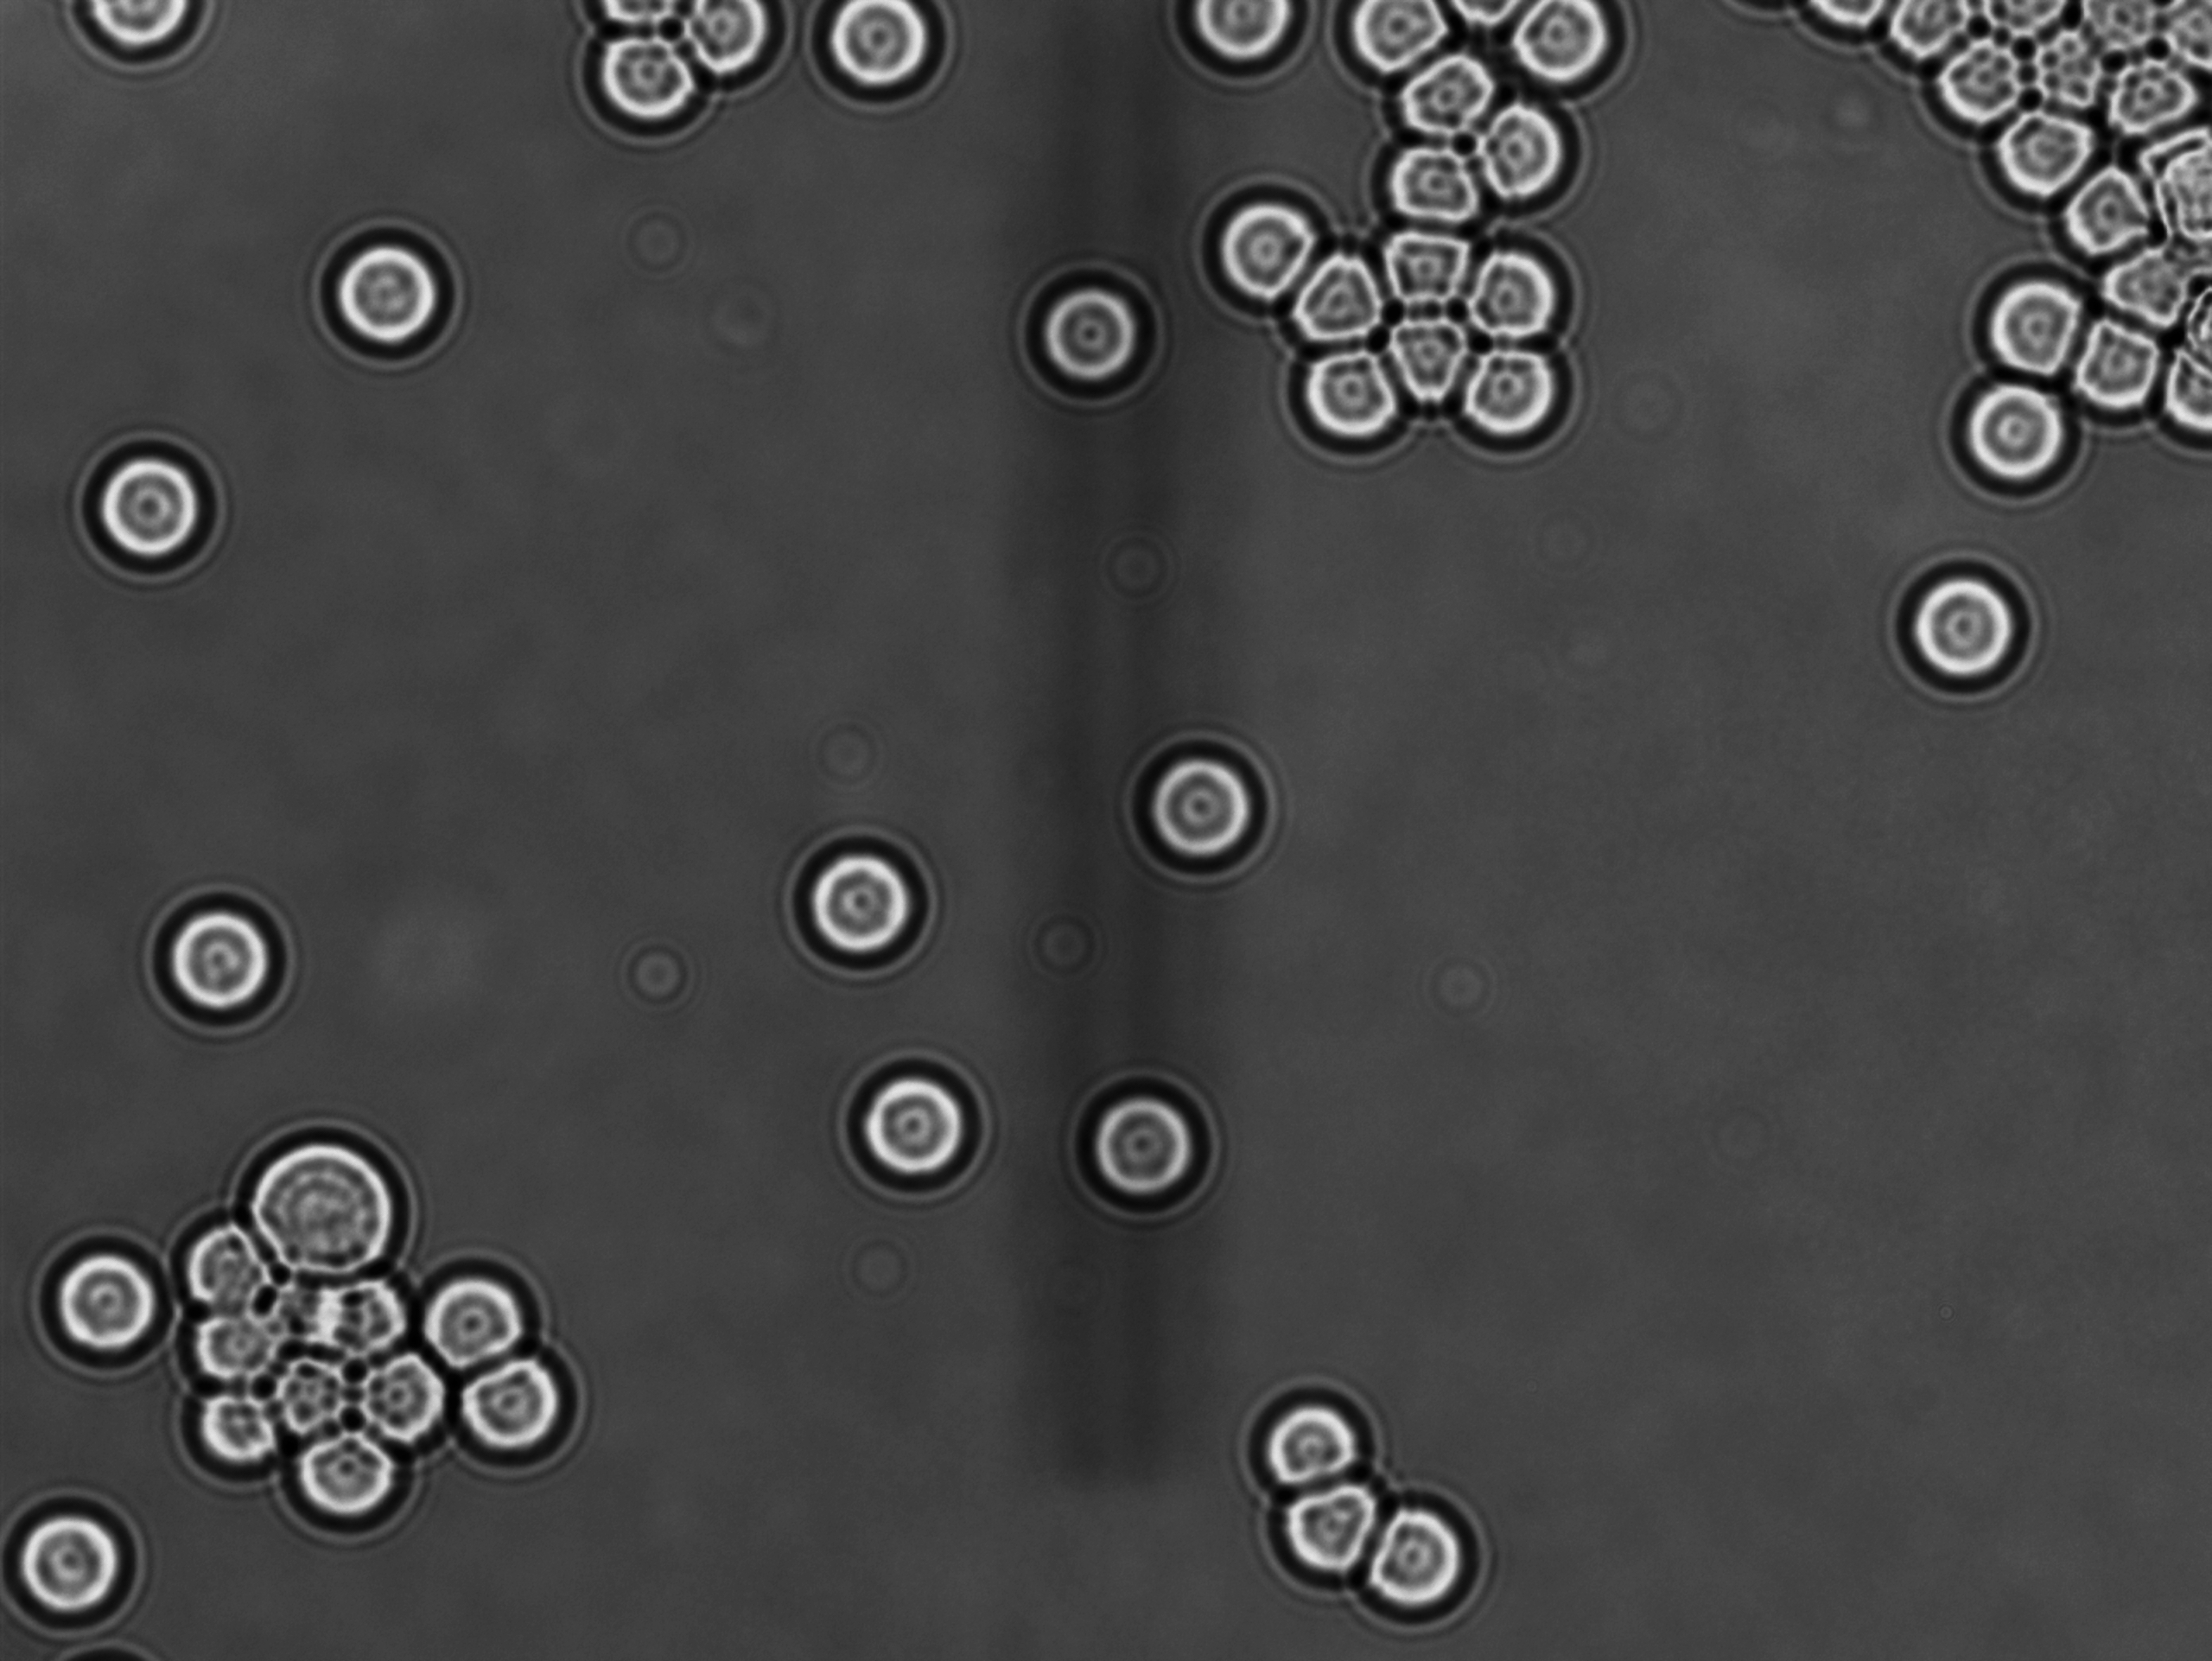depth:20: (1877, 544, 2055, 726), (1003, 239, 1174, 419), (133, 871, 307, 1042), (1113, 715, 1282, 888), (766, 813, 937, 982), (1047, 1063, 1214, 1234), (1942, 351, 2116, 515), (293, 206, 455, 382), (1348, 14, 1521, 173), (1190, 159, 1355, 323), (1949, 244, 2116, 407), (1434, 208, 1601, 366), (73, 419, 232, 584), (1978, 79, 2139, 239), (1366, 112, 1535, 263), (829, 1038, 989, 1197), (14, 1220, 174, 1377), (1355, 1483, 1516, 1638), (1439, 316, 1600, 468), (1233, 1364, 1389, 1516), (1249, 1467, 1403, 1616), (1266, 321, 1417, 464), (1451, 79, 1586, 229)
